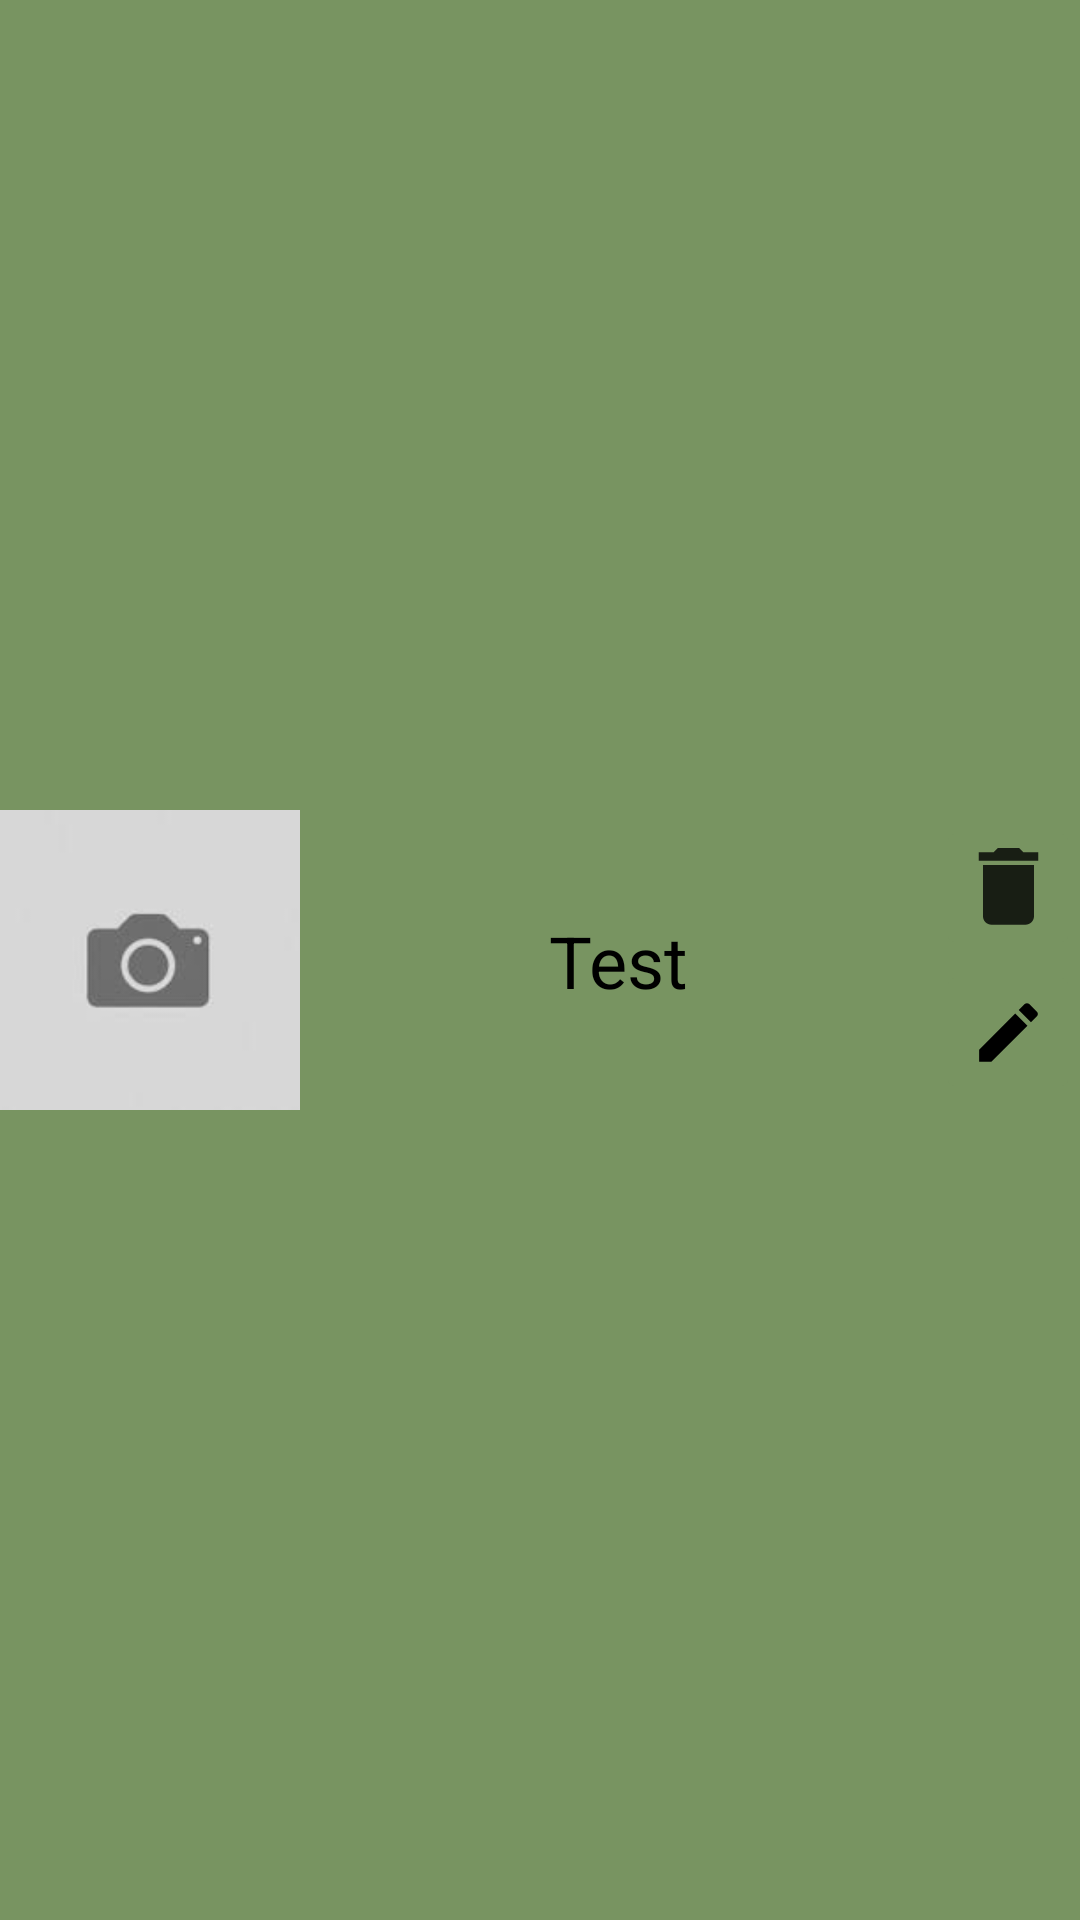

Where icons sit on this 1080px×1920px app screen, as box(x1, y1, x2, y2):
kameraplatzhalter: box(0, 810, 300, 1110)
Rezept bearbeiten: box(979, 1003, 1038, 1062)
Rezept Löschen: box(978, 848, 1039, 925)
